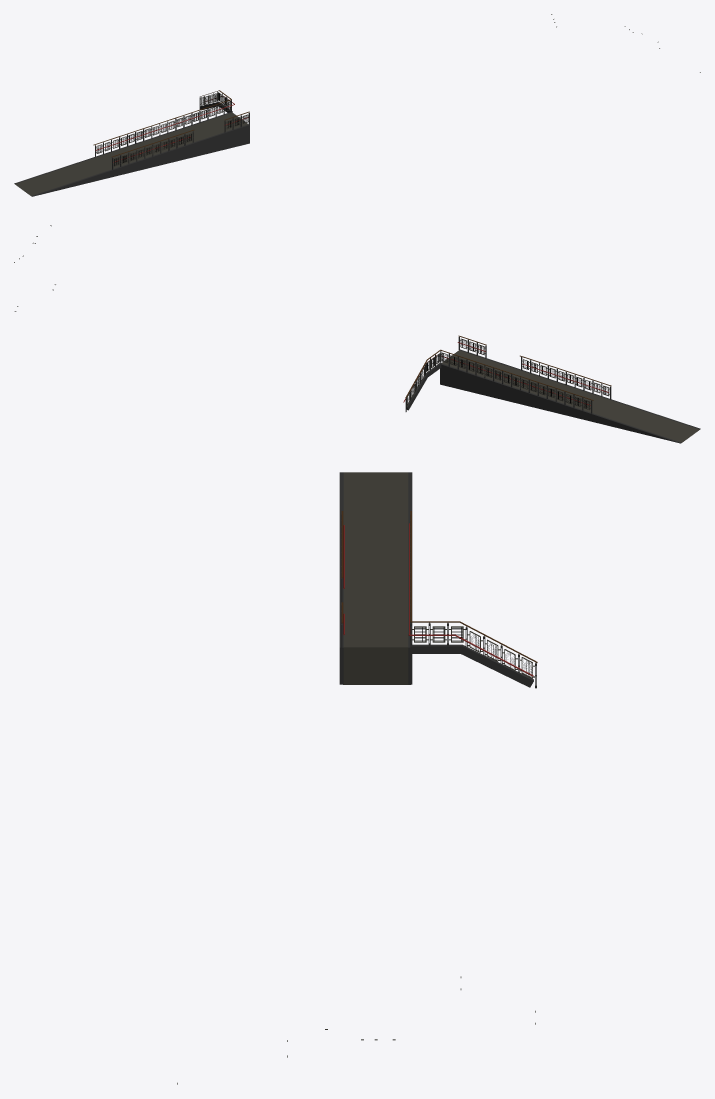
Rendered from StairTwo_Slop.fbx.
3 views of the same model, one above another, from view 1: azimuth 30°, elevation 25°; view 2: azimuth 150°, elevation 25°; view 3: azimuth 270°, elevation 25° (orthographic). The views are drawn at different scales.
Parts seen in each view (by area): view 1: Cube.001, 立方體.835, 立方體.007; view 2: Cube.001, 立方體.007, 立方體.835; view 3: Cube.001.
Boxes of the visible parts, bbox=[...] form: Cube.001: bbox=[15, 112, 248, 195]; 立方體.835: bbox=[31, 124, 249, 196]; 立方體.007: bbox=[14, 112, 232, 183]; Cube.001: bbox=[441, 350, 699, 442]; 立方體.007: bbox=[440, 363, 681, 443]; 立方體.835: bbox=[459, 349, 700, 429]; Cube.001: bbox=[343, 472, 410, 684].
Bounding box in the file's own units: 9750 × 494 × 2419.
